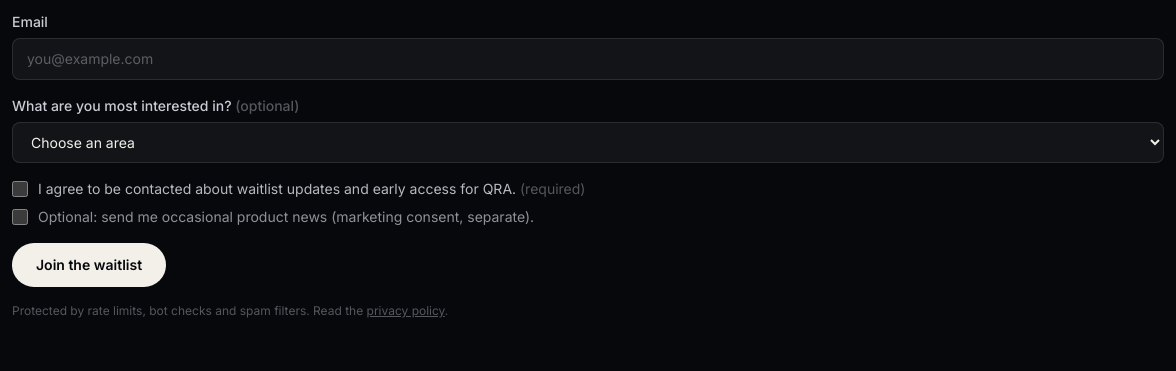
Test case: WaitlistForm › surfaces the Retry-After guidance on 429
Type "ada@example.com" into the field with test id "waitlist-email" at (588, 59), box [12, 38, 1164, 80]
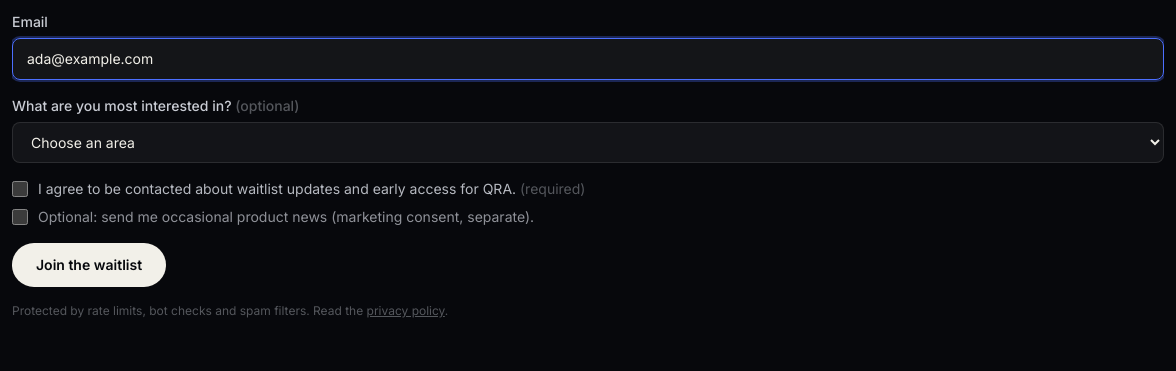
Click the checkbox with test id "waitlist-consent" at (20, 189), box [12, 181, 28, 197]
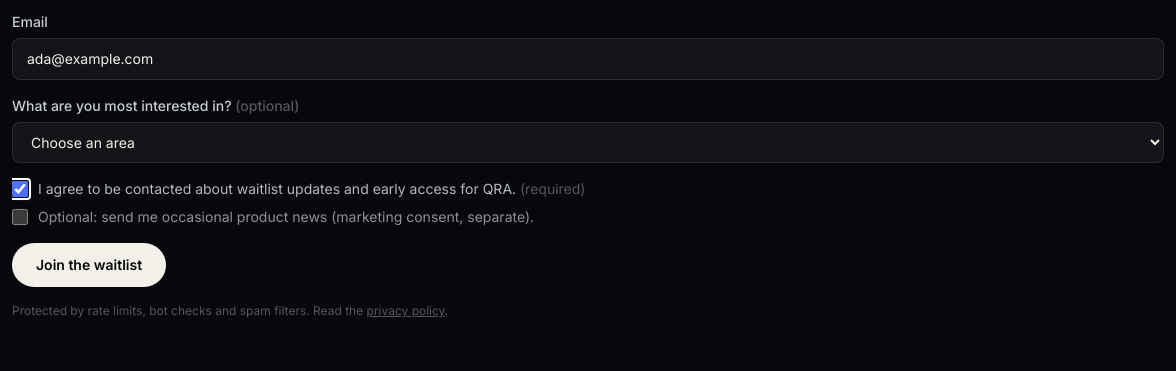
Click the button with test id "waitlist-submit" at (89, 265), box [12, 243, 166, 287]
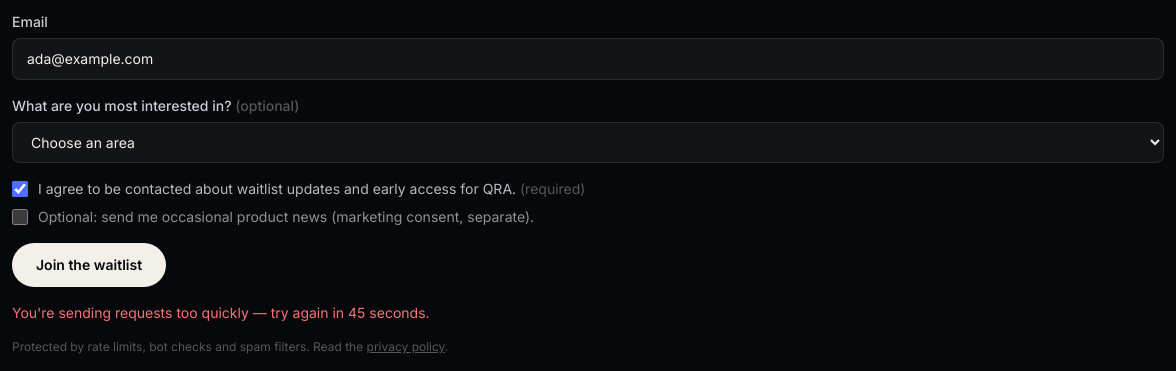
Expected: the message with test id "waitlist-error" shows "45 seconds", [12, 304, 430, 321]
